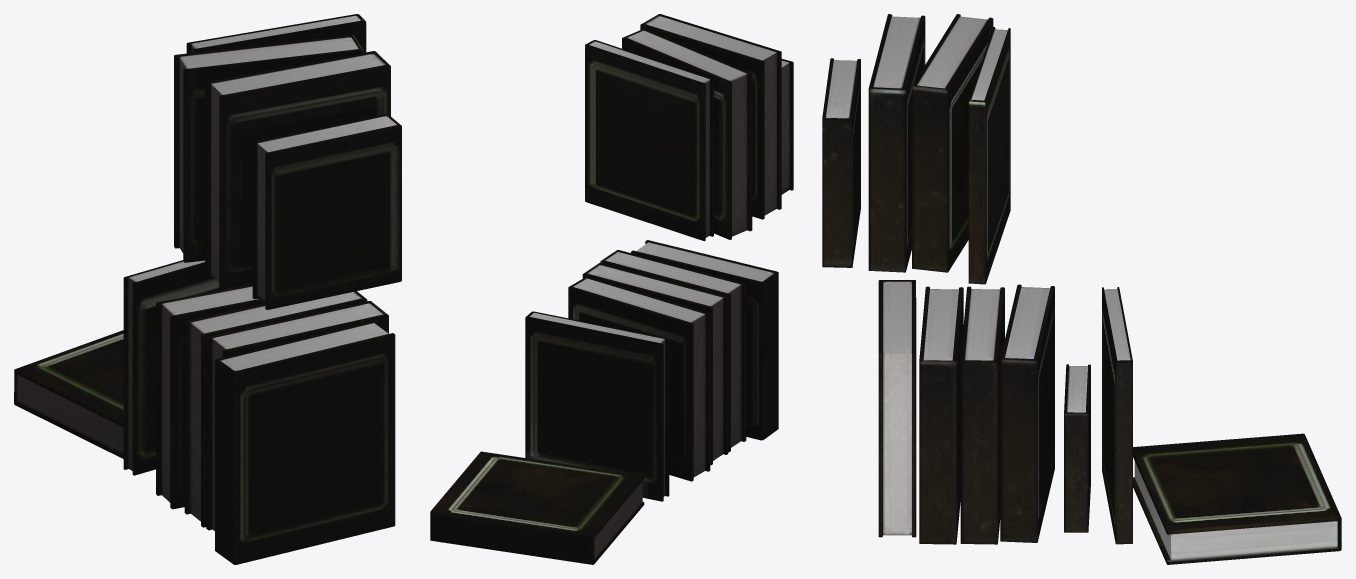
The model's file is books.glb.
3 views of the same model, side by side, from view 1: azimuth 30°, elevation 25°; view 2: azimuth 150°, elevation 25°; view 3: azimuth 270°, elevation 25° (orthographic). The views are drawn at different scales.
Visible parts, largest first — view 1: book_Baked, book.010_Baked, book.009_Baked, book.007_Baked, book.006_Baked, book.005_Baked, book.003_Baked, book.002_Baked, book.001_Baked, book.008_Baked; view 2: book.005_Baked, book.008_Baked, book.006_Baked, book.003_Baked, book.007_Baked, book.009_Baked, book_Baked, book.002_Baked, book.001_Baked, book.010_Baked; view 3: book.006_Baked, book.007_Baked, book.003_Baked, book.009_Baked, book.001_Baked, book.002_Baked, book_Baked, book.008_Baked, book.010_Baked, book.005_Baked, book.004_Baked.
Boxes of the visible parts, x1,y1,x2,y2 form: book_Baked: [215, 320, 395, 564]; book.010_Baked: [252, 114, 401, 309]; book.009_Baked: [205, 51, 390, 289]; book.007_Baked: [174, 34, 363, 262]; book.006_Baked: [14, 330, 123, 458]; book.005_Baked: [123, 260, 252, 475]; book.003_Baked: [156, 284, 262, 509]; book.002_Baked: [184, 291, 367, 527]; book.001_Baked: [206, 301, 388, 530]; book.008_Baked: [186, 14, 366, 53]; book.005_Baked: [525, 311, 669, 501]; book.008_Baked: [585, 40, 713, 241]; book.006_Baked: [430, 451, 644, 564]; book.003_Baked: [568, 276, 710, 481]; book.007_Baked: [622, 28, 752, 239]; book.009_Baked: [640, 14, 781, 219]; book_Baked: [631, 240, 778, 440]; book.002_Baked: [582, 263, 728, 465]; book.001_Baked: [600, 250, 746, 452]; book.010_Baked: [781, 59, 793, 194]; book.006_Baked: [1133, 433, 1341, 564]; book.007_Baked: [912, 14, 993, 272]; book.003_Baked: [1000, 284, 1054, 542]; book.009_Baked: [868, 14, 925, 272]; book.001_Baked: [919, 286, 963, 544]; book.002_Baked: [960, 286, 1004, 544]; book_Baked: [878, 280, 916, 537]; book.008_Baked: [968, 27, 1010, 284]; book.010_Baked: [822, 58, 860, 267]; book.005_Baked: [1102, 287, 1132, 544]; book.004_Baked: [1064, 364, 1090, 532].
Size of the model in its own units: 0.3352 by 0.6804 by 0.7143.
Materials: 1 (1 with a texture image).
